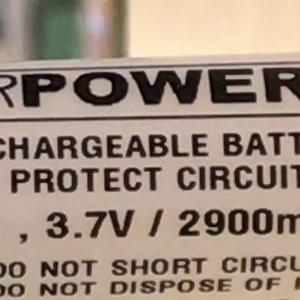3.7V: (36, 200, 144, 249)
